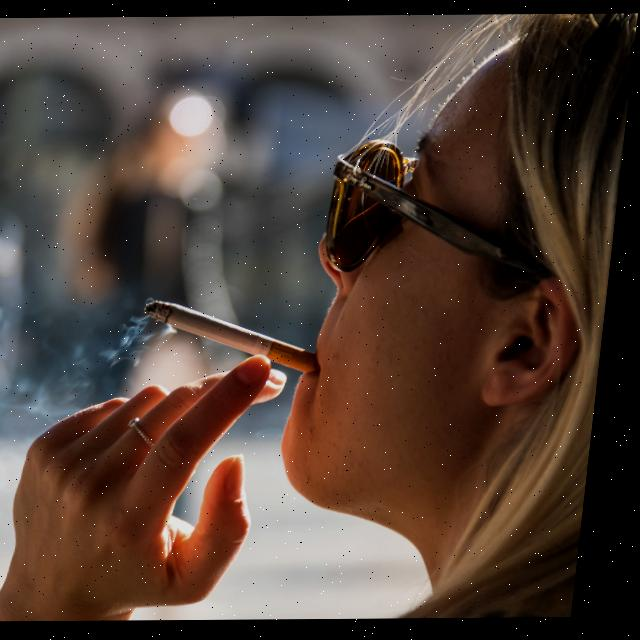cigarette: (146, 299, 335, 375)
